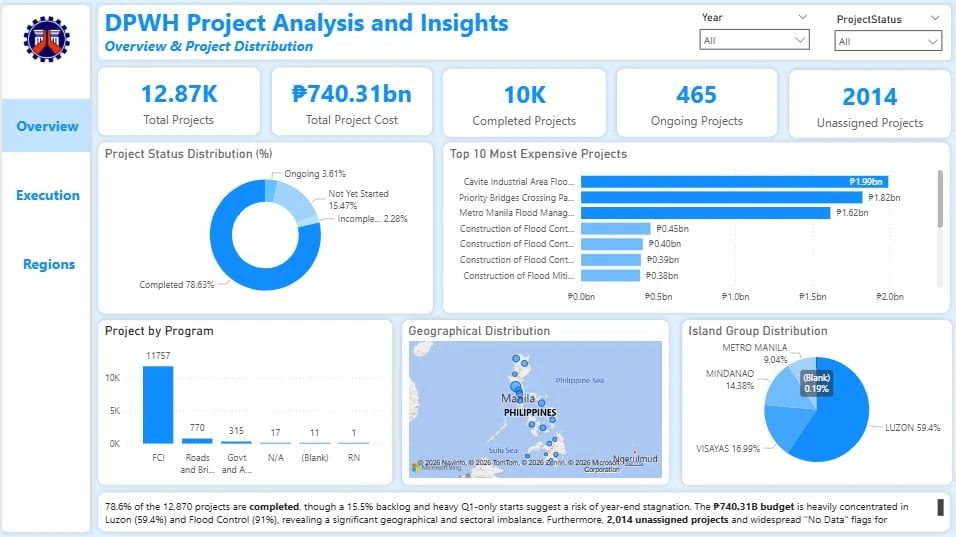

The dashboard page shown, as its layout file describes it:
{"tool":"powerbi","page":{"name":"OVERVIEW","canvas":[1280,720],"ordinal":0},"visuals":[{"type":"shape","box":[128.1,7.1,1137.3,73],"z":0},{"type":"shape","box":[0,7.1,117.5,703],"z":1000},{"type":"image","box":[25,21.7,70,61.7],"z":2000},{"type":"textbox","box":[64.1,1.8,685.2,62.3],"z":3000},{"type":"textbox","box":[131.7,42.7,432.5,53.4],"z":4000},{"type":"card","fields":{"Values":["CountNonNull(GovtProjects.ProjectID)"]},"box":[128.3,90,215,90],"z":5000},{"type":"textbox","box":[10.7,149.5,101.4,39.2],"z":6000},{"type":"card","fields":{"Values":["Sum(GovtProjects.ProjectCost)"]},"box":[360,90,213.3,90],"z":7000},{"type":"card","fields":{"Values":["Projects.Ongoing Projects"]},"box":[820,91.7,213.3,90],"z":8000},{"type":"card","fields":{"Values":["Projects.Completed Projects"]},"box":[588.3,91.7,216.7,90],"z":9000},{"type":"card","fields":{"Values":["Projects.No Contractor Data"]},"box":[1050,93.3,215,90],"z":10000},{"type":"shape","box":[0,131.7,117.5,71.2],"z":11000},{"type":"donutChart","title":"Project Status Distribution (%)","fields":{"Y":["CountNonNull(Projects.ProjectID)"],"Series":["Projects.ProjectStatus"]},"box":[128,190,446,228],"z":12000},{"type":"pieChart","title":"Island Group Distribution","fields":{"Y":["CountNonNull(Projects.ProjectID)"],"Category":["Projects.ARCHIPELAGO/METRO"]},"box":[906,426,360,220],"z":13000},{"type":"clusteredBarChart","title":"Top 10 Most Expensive Projects","fields":{"Y":["Sum(Projects.ProjectCost)"],"Category":["Projects.ProjectName"]},"box":[588.8,190.6,675.6,227.6],"z":14000},{"type":"textbox","box":[3.6,240.9,115.7,40.9],"z":15000},{"type":"textbox","box":[12.5,334,101.4,39.2],"z":16000},{"type":"map","title":"Geographical Distribution","fields":{"Category":["Projects.Region_Name"],"Size":["CountNonNull(Projects.ProjectID)"]},"box":[534,426,356,220],"z":17000},{"type":"clusteredColumnChart","title":"Project by Program","fields":{"Y":["CountNonNull(Projects.ProjectID)"],"Category":["Projects.ProgramAbbrev"]},"box":[128,426,392,220],"z":18000},{"type":"textbox","box":[128,656,1136,52],"z":19000},{"type":"slicer","fields":{"Values":["Projects.PlannedStartDate.Variation.Date Hierarchy.Year"]},"box":[920,10,166.7,68.3],"z":19001},{"type":"slicer","fields":{"Values":["Projects.ProjectStatus"]},"box":[1100,11.7,163.3,68.3],"z":19002}]}

Visuals, with their boxes in screenshot pixels (x1, y1, x2, y2), scaled from the page's 1280x720 canvas onto the 956x537 screenshot:
shape: 96, 5, 945, 60
shape: 0, 5, 88, 530
image: 19, 16, 71, 62
textbox: 48, 1, 560, 48
textbox: 98, 32, 421, 72
card - CountNonNull(GovtProjects.ProjectID): 96, 67, 256, 134
textbox: 8, 112, 84, 141
card - Sum(GovtProjects.ProjectCost): 269, 67, 428, 134
card - Projects.Ongoing Projects: 612, 68, 772, 136
card - Projects.Completed Projects: 439, 68, 601, 136
card - Projects.No Contractor Data: 784, 70, 945, 137
shape: 0, 98, 88, 151
"Project Status Distribution (%)" donutChart: 96, 142, 429, 312
"Island Group Distribution" pieChart: 677, 318, 946, 482
"Top 10 Most Expensive Projects" clusteredBarChart: 440, 142, 944, 312
textbox: 3, 180, 89, 210
textbox: 9, 249, 85, 278
"Geographical Distribution" map: 399, 318, 665, 482
"Project by Program" clusteredColumnChart: 96, 318, 388, 482
textbox: 96, 489, 944, 528
slicer - Projects.PlannedStartDate.Variation.Date Hierarchy.Year: 687, 7, 812, 58
slicer - Projects.ProjectStatus: 822, 9, 944, 60
